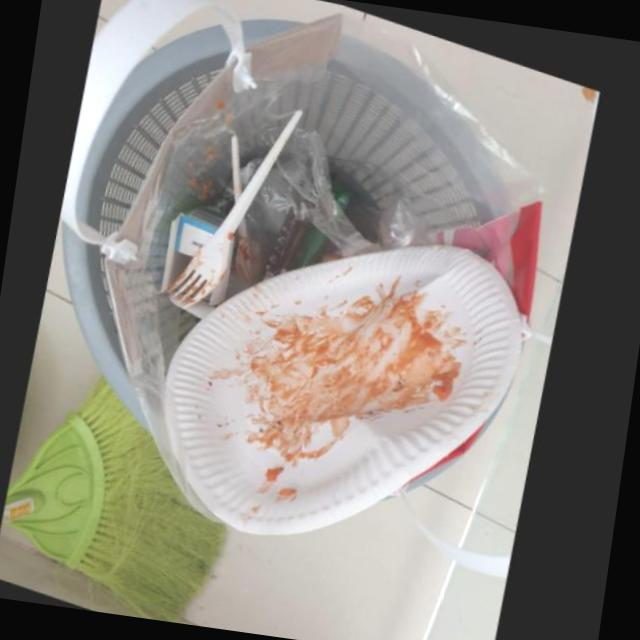carton: (165, 240, 534, 535), (164, 191, 242, 295)
goi_nhua_nho: (302, 179, 362, 267)
